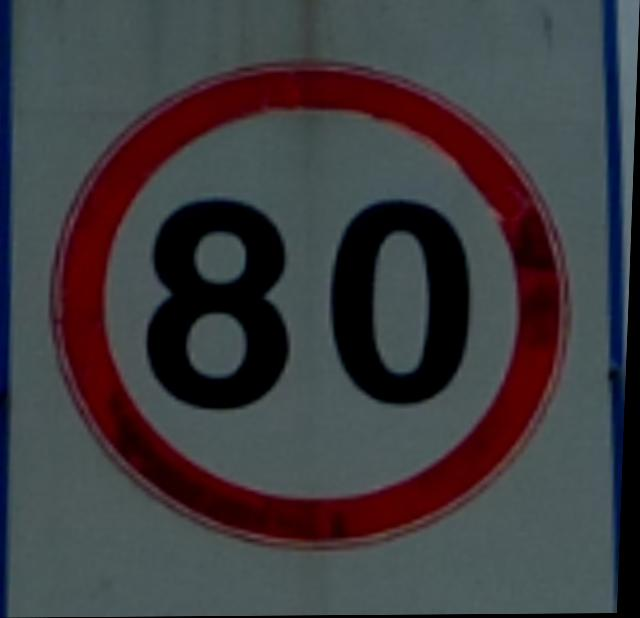limit80: (34, 45, 593, 563)
